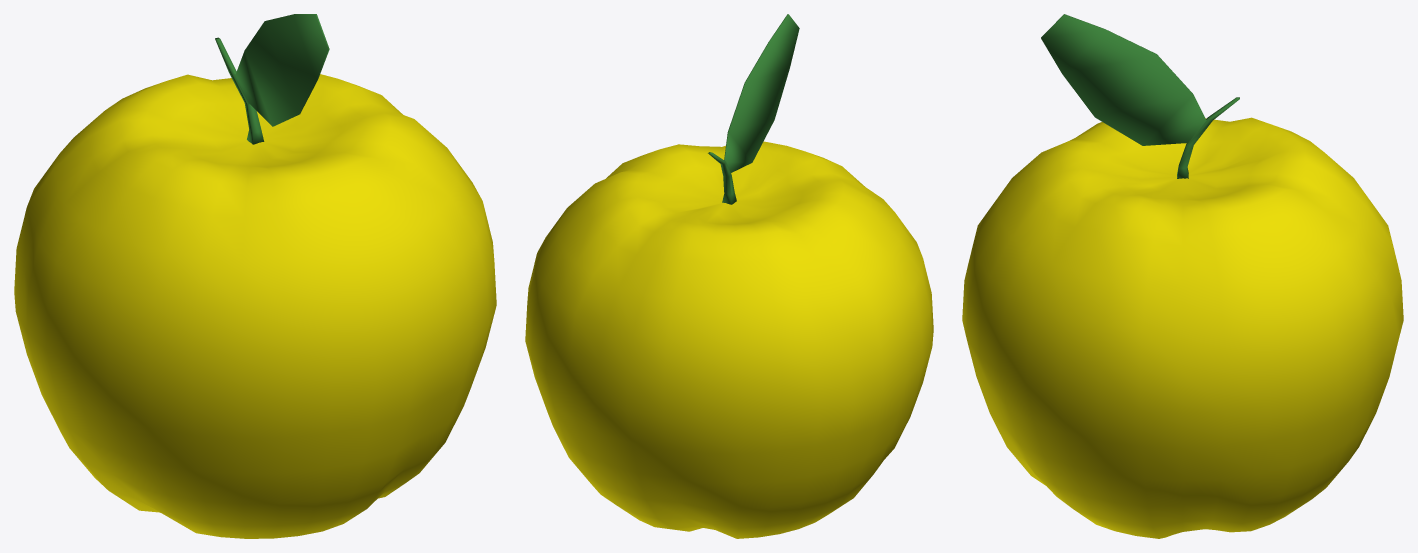
The model's file is appleGolden.fbx.
3 renders of one model, left to right at view 1: azimuth 30°, elevation 25°; view 2: azimuth 150°, elevation 25°; view 3: azimuth 270°, elevation 25°, orthographic. The views are drawn at different scales.
Visible parts, largest first — view 1: Apple; view 2: Apple; view 3: Apple.
Boxes of the visible parts, x1,y1,x2,y2 form: Apple: (14, 14, 496, 538); Apple: (525, 14, 933, 538); Apple: (962, 14, 1403, 538).
Size of the model in its own units: 198 by 241 by 198.
